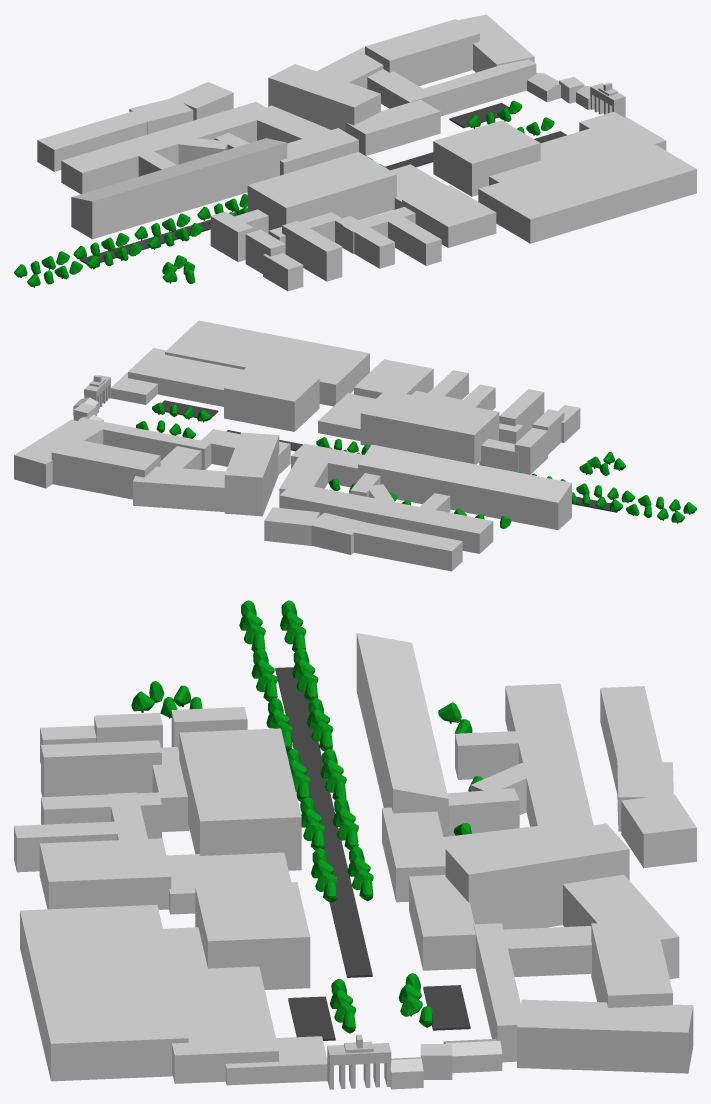
Rendered from BrandenburgerTor-Triangles.fbx.
The picture shows the model from 3 angles, top to bottom: view 1: azimuth 30°, elevation 25°; view 2: azimuth 150°, elevation 25°; view 3: azimuth 270°, elevation 25°; orthographic projection. The views are drawn at different scales.
Parts seen in each view (by area): view 1: Houses, Trees, Roads, Tor; view 2: Houses, Trees, Roads, Tor; view 3: Houses, Trees, Roads, Tor.
Part boxes in pixels (x1,y1,x2,y2): Houses: (37, 14, 696, 291); Trees: (14, 100, 554, 287); Roads: (79, 103, 566, 264); Tor: (590, 82, 625, 117); Houses: (14, 320, 580, 571); Trees: (136, 402, 696, 528); Roads: (162, 400, 617, 512); Tor: (84, 375, 110, 408); Houses: (14, 633, 696, 1089); Trees: (131, 600, 483, 1033); Roads: (275, 667, 470, 1040); Tor: (327, 1034, 391, 1089).
Size of the model in its own units: 8270 by 570 by 5058.
